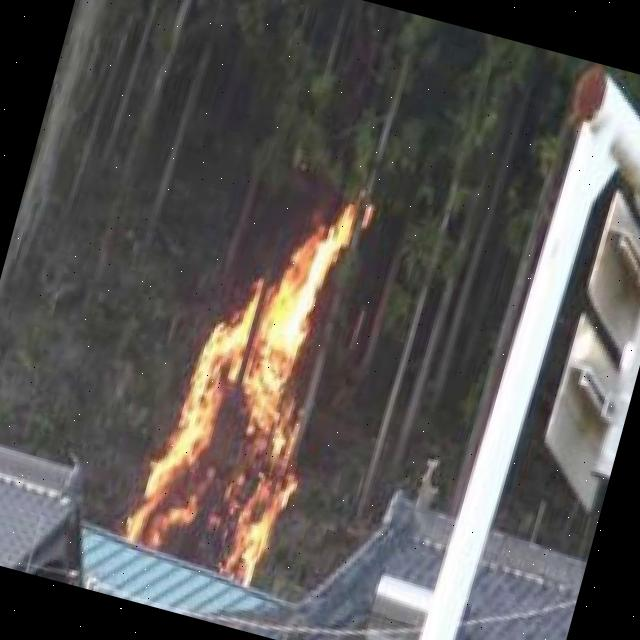fire: (124, 165, 374, 591)
